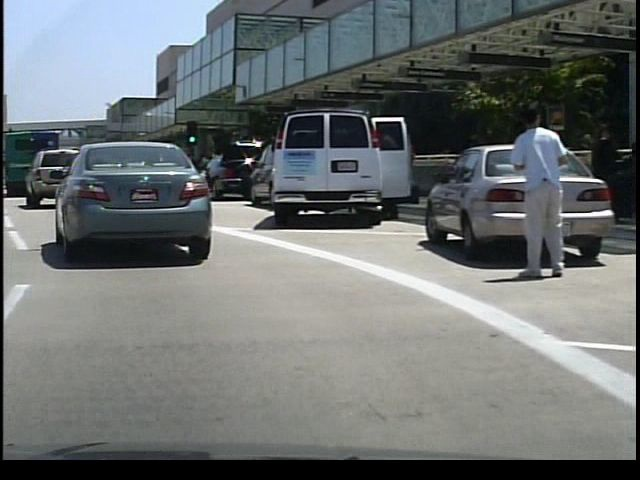person: (507, 99, 569, 283), (583, 117, 617, 227), (632, 118, 633, 224)
